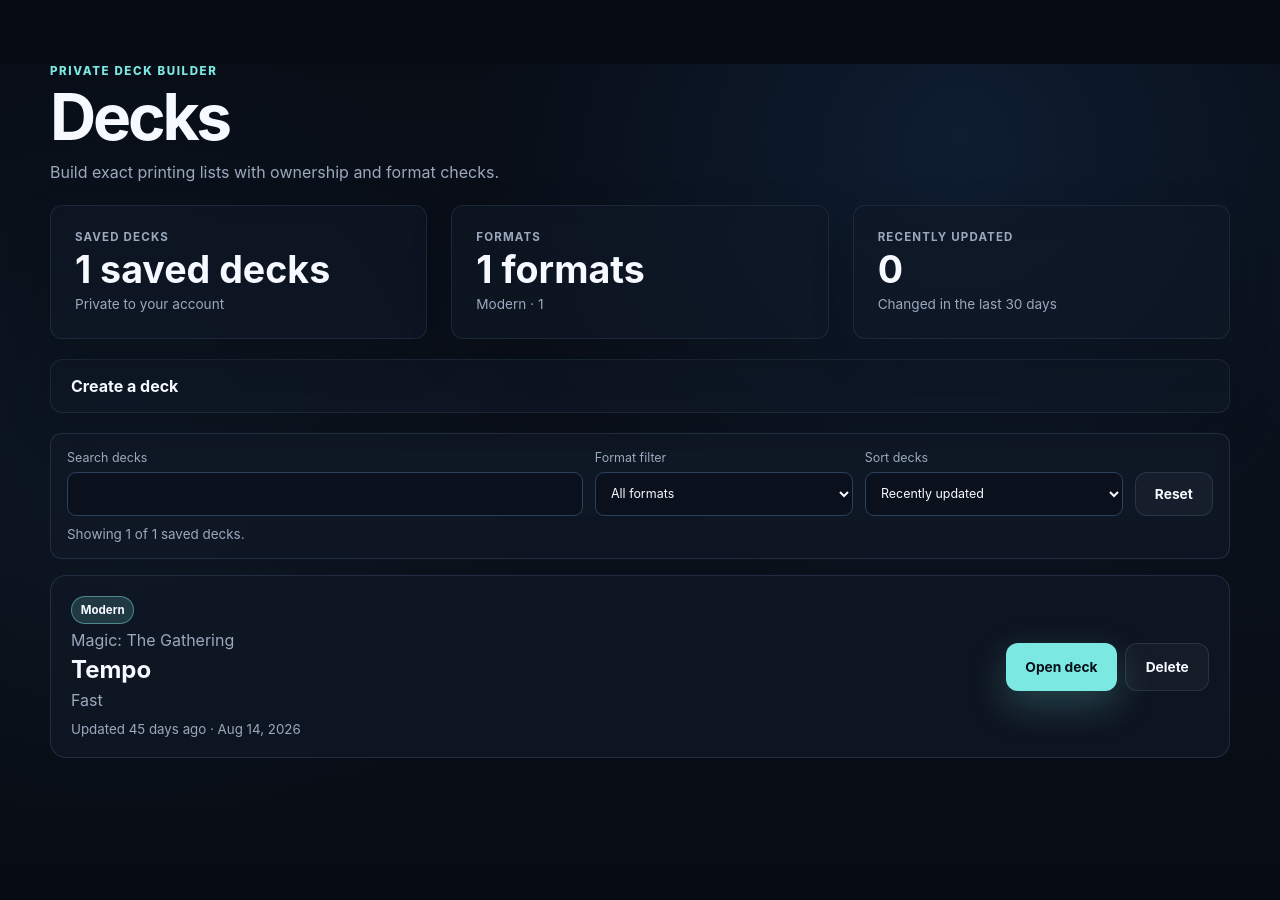
it: keeps last-good decks visible through a conflict and refreshes
Expected: the heading "Tempo" is shown, [71, 655, 151, 684]
Click the button with aria-label "delete tempo". click: (1167, 666)
box: [1126, 642, 1209, 690]
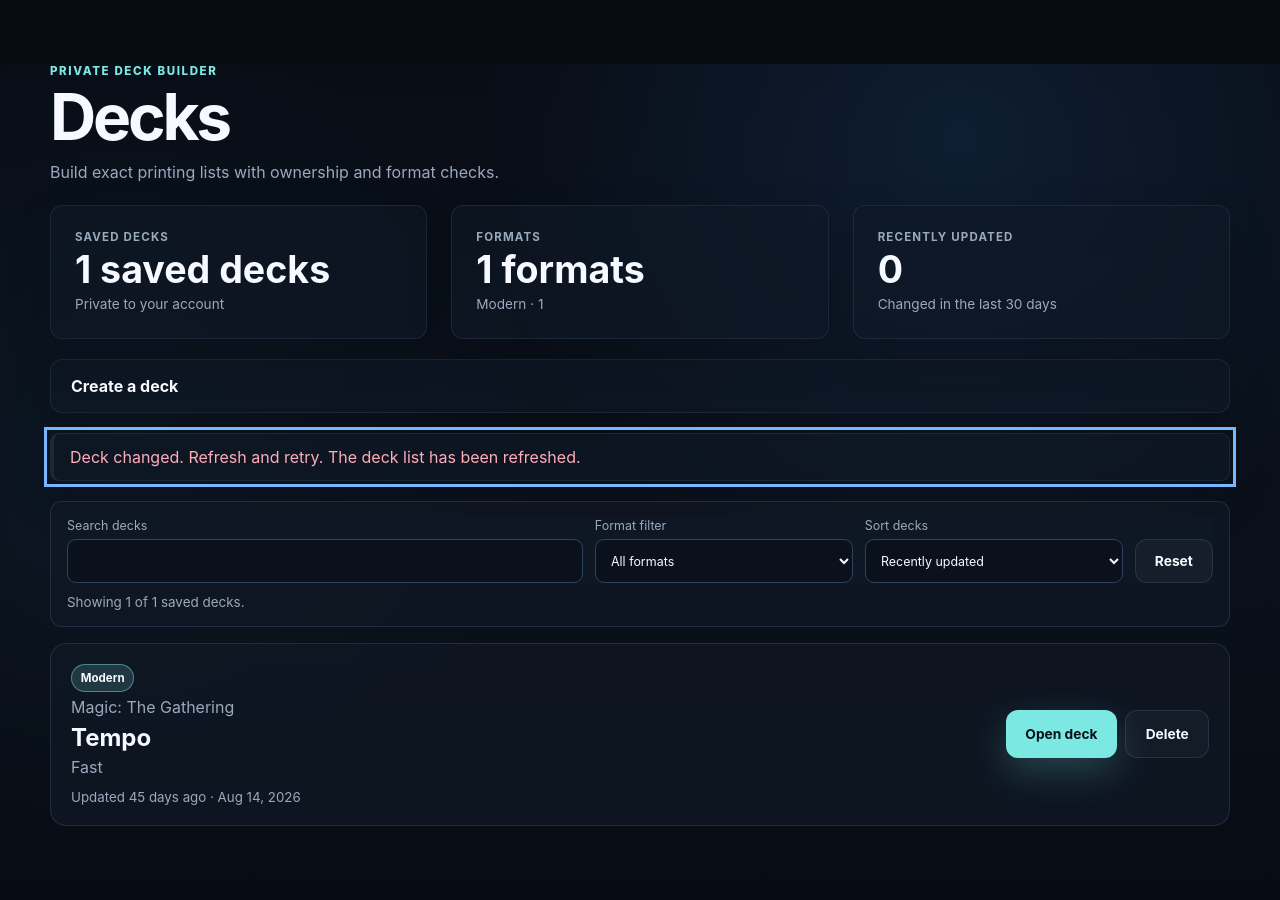
Expected: the heading "Tempo" is shown, [71, 723, 151, 752]
Result: the message "Deck changed. Refresh and retry. The deck list has been refreshed." is shown at [50, 433, 1230, 481]
